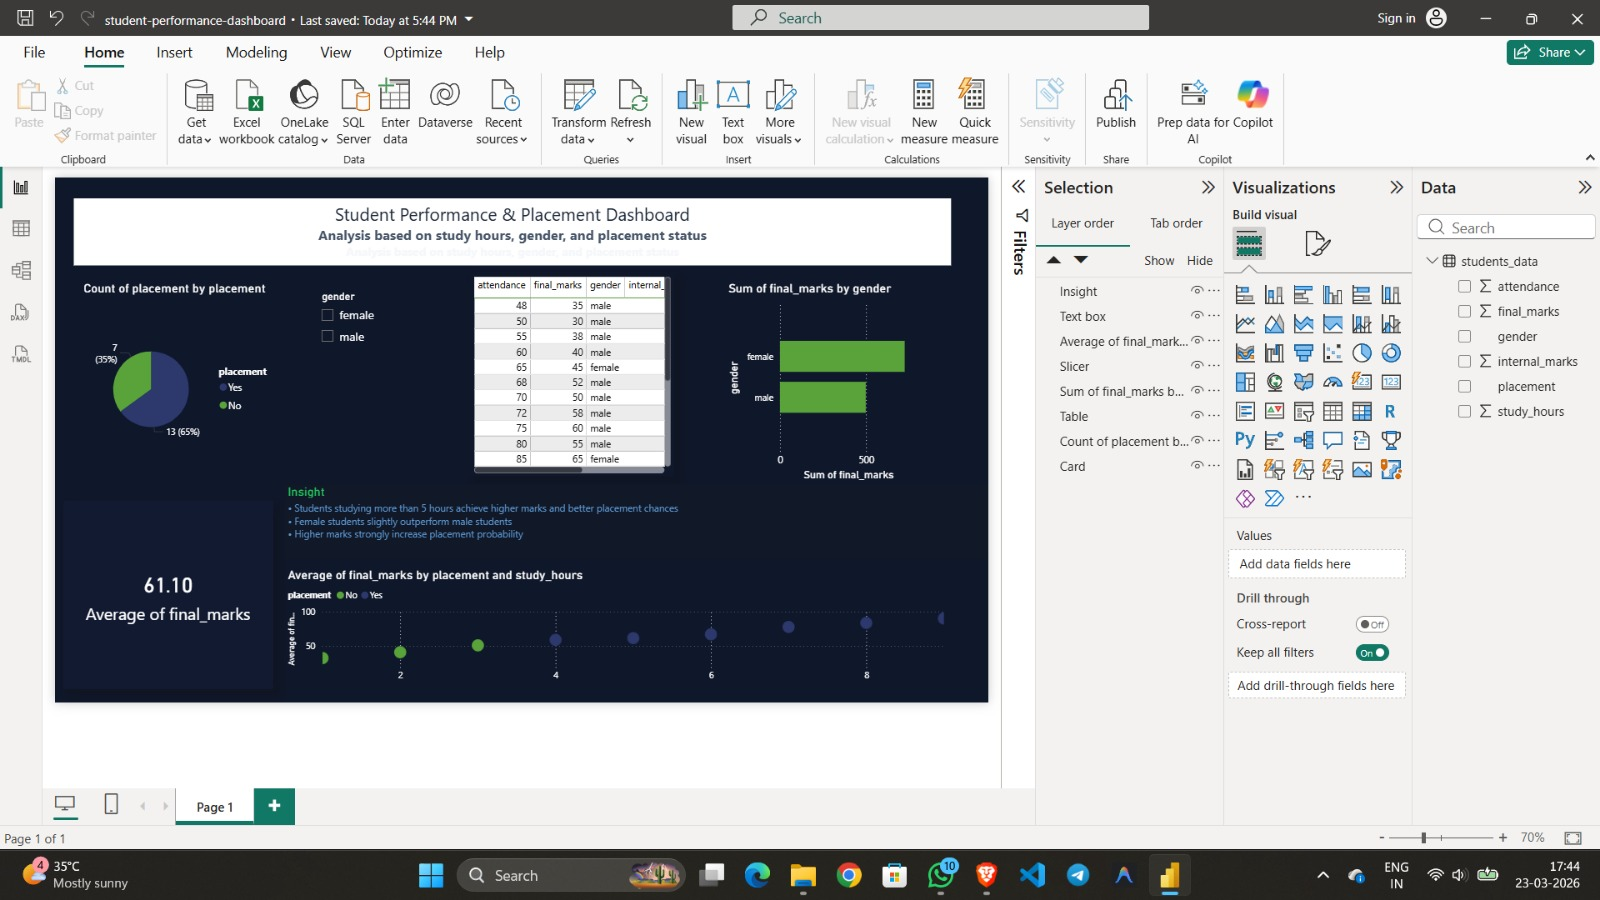

The dashboard page shown, as its layout file describes it:
{"tool":"powerbi","page":{"name":"Page 1","canvas":[1280,720],"ordinal":0},"visuals":[{"type":"card","fields":{"Values":["Avg(students_data.final_marks)"]},"box":[11.9,442.6,287.7,258.7],"z":0},{"type":"pieChart","fields":{"Category":["students_data.placement"],"Y":["CountNonNull(students_data.placement)"]},"box":[34,141.3,279.1,279.1],"z":1000},{"type":"tableEx","fields":{"Values":["students_data.attendance","students_data.final_marks","students_data.gender","students_data.internal_marks","students_data.placement","students_data.study_hours"]},"box":[568.5,131.1,280.9,279.1],"z":2000},{"type":"clusteredBarChart","fields":{"Y":["Sum(students_data.final_marks)"],"Category":["students_data.gender"]},"box":[919.1,141.3,280.9,279.1],"z":3000},{"type":"slicer","fields":{"Values":["students_data.gender"]},"box":[352.3,149.8,197.4,260.4],"z":4000},{"type":"scatterChart","fields":{"X":["students_data.study_hours"],"Y":["Avg(students_data.final_marks)"],"Series":["students_data.placement"]},"box":[314.9,534.5,914,166.8],"z":5000},{"type":"textbox","box":[25.5,28.9,1203.4,91.9],"z":8000},{"type":"textbox","title":"Insight","box":[314.3,420,965.7,102.9],"z":8001}]}

Visuals, with their boxes on the page's 1280x720 design canvas (x1, y1, x2, y2). These are canvas units, not pixel positions in the 1600x900 screenshot, which may show the page scaled, cropped or inside an application window:
card - Avg(students_data.final_marks): 12,443,300,701
pieChart - students_data.placement x CountNonNull(students_data.placement): 34,141,313,420
tableEx - students_data.attendance x students_data.final_marks: 568,131,849,410
clusteredBarChart - Sum(students_data.final_marks) x students_data.gender: 919,141,1200,420
slicer - students_data.gender: 352,150,550,410
scatterChart - students_data.study_hours x Avg(students_data.final_marks): 315,534,1229,701
textbox: 26,29,1229,121
"Insight" textbox: 314,420,1280,523
